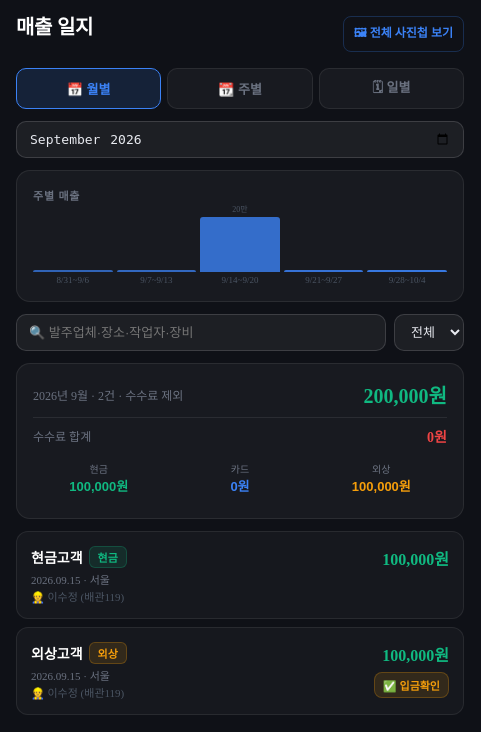
Test: 이미 선택된 결제수단을 다시 누르면 필터가 해제되어 전체가 다시 보인다
The image size is (481, 732).
Click the button with test id "pay-filter-credit": (381, 478) [316,454,447,502]
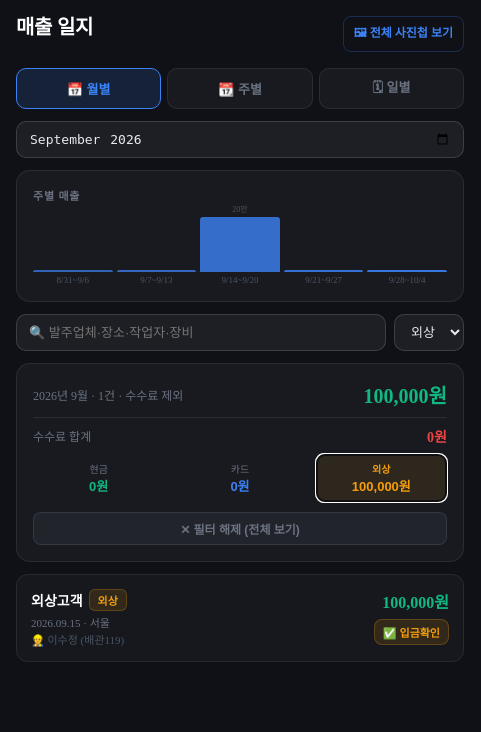
Expected: the text "현금고객" is gone
Click the button with test id "pay-filter-credit": (381, 478) [316,454,447,502]
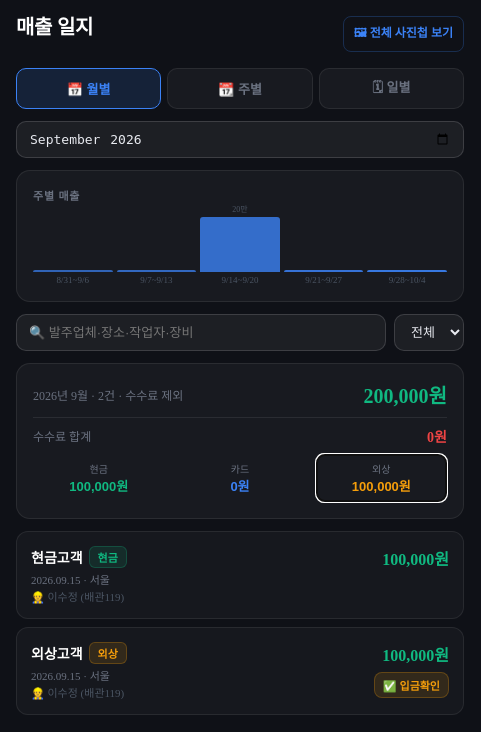
Expected: the text "외상고객" is shown, [31,643,82,663]
Expected: the text "현금고객" is shown, [31,547,82,567]
